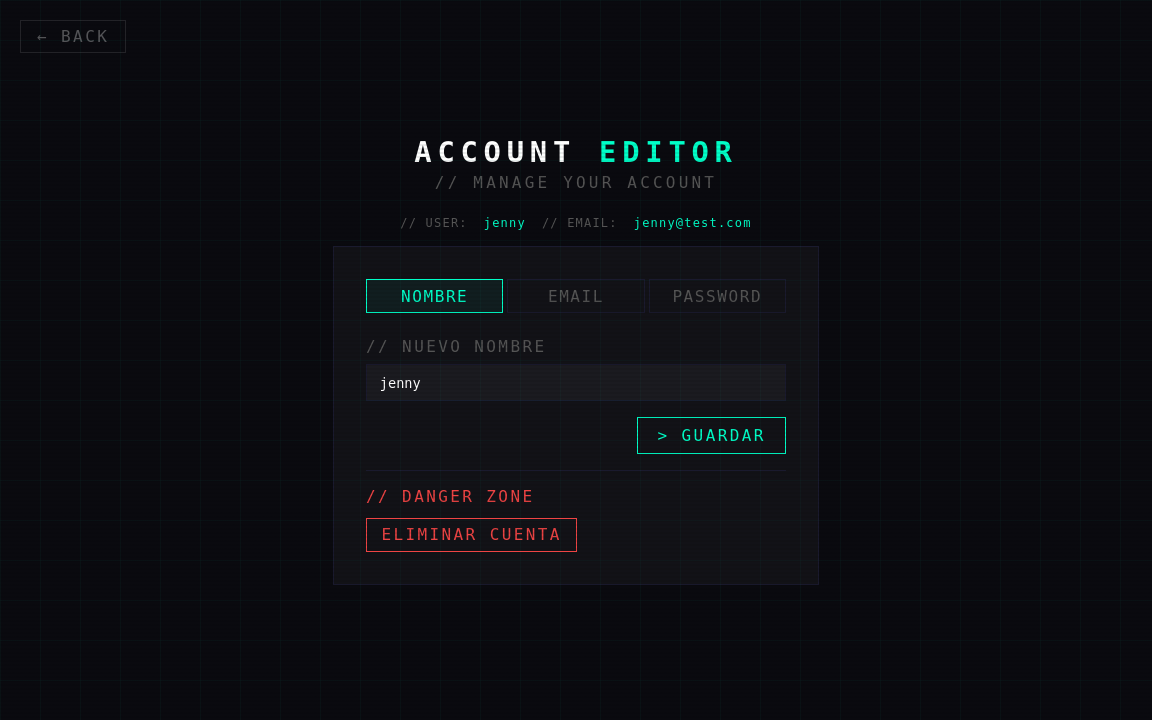
Test: AccountEditor › muestra el formulario de password al cambiar a esa tab
Click the button "PASSWORD" at point(717, 296), box [649,279,786,313]
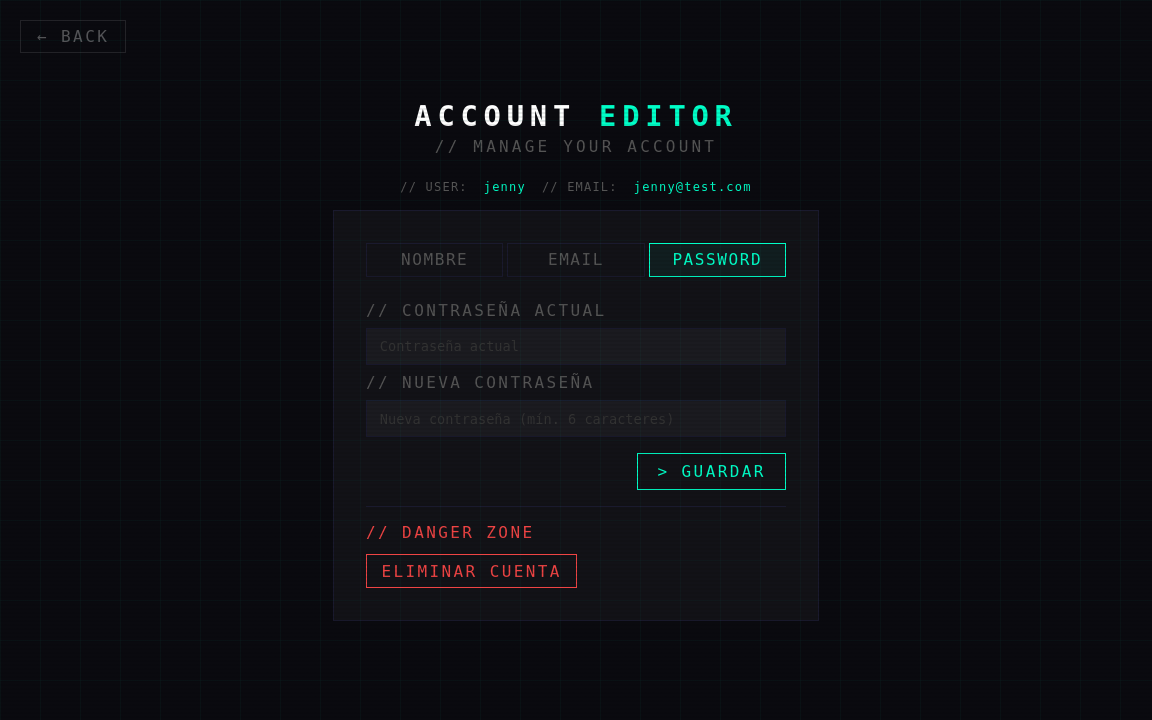
Check: the password field with placeholder "Contraseña actual" is shown, box [366,328,786,365]
Check: the password field with placeholder "Nueva contraseña (mín. 6 caracteres)" is shown, box [366,400,786,437]
